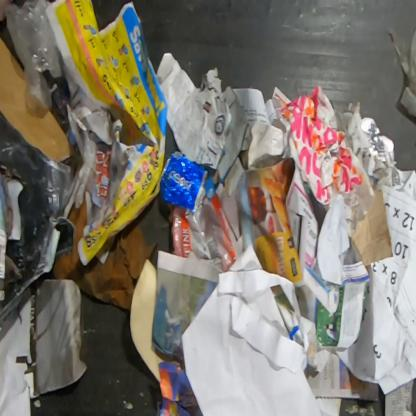cardboard: (53, 191, 159, 309), (0, 35, 75, 164)
metal: (159, 150, 208, 213)
soft_plastic: (1, 0, 62, 119), (172, 195, 237, 268), (388, 28, 415, 120)
